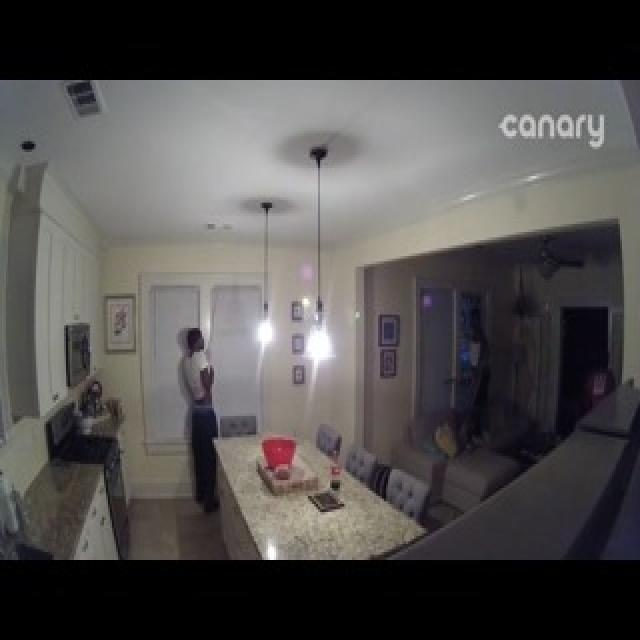thief: (177, 322, 224, 509)
